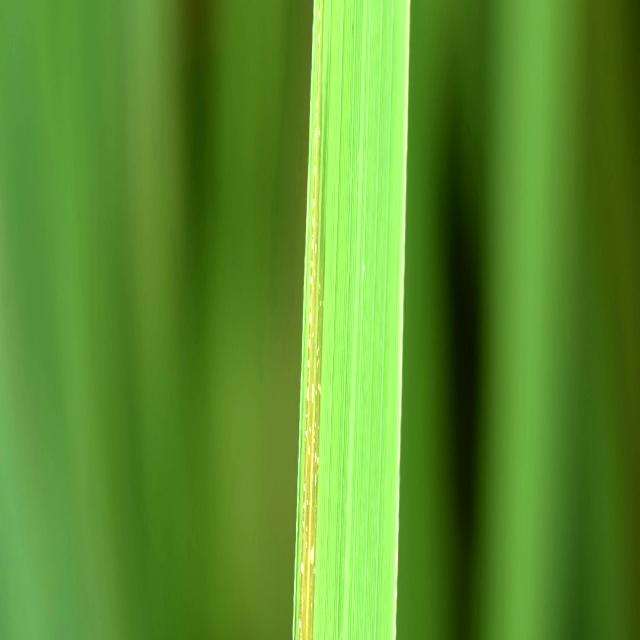BLS: (298, 6, 329, 640)
